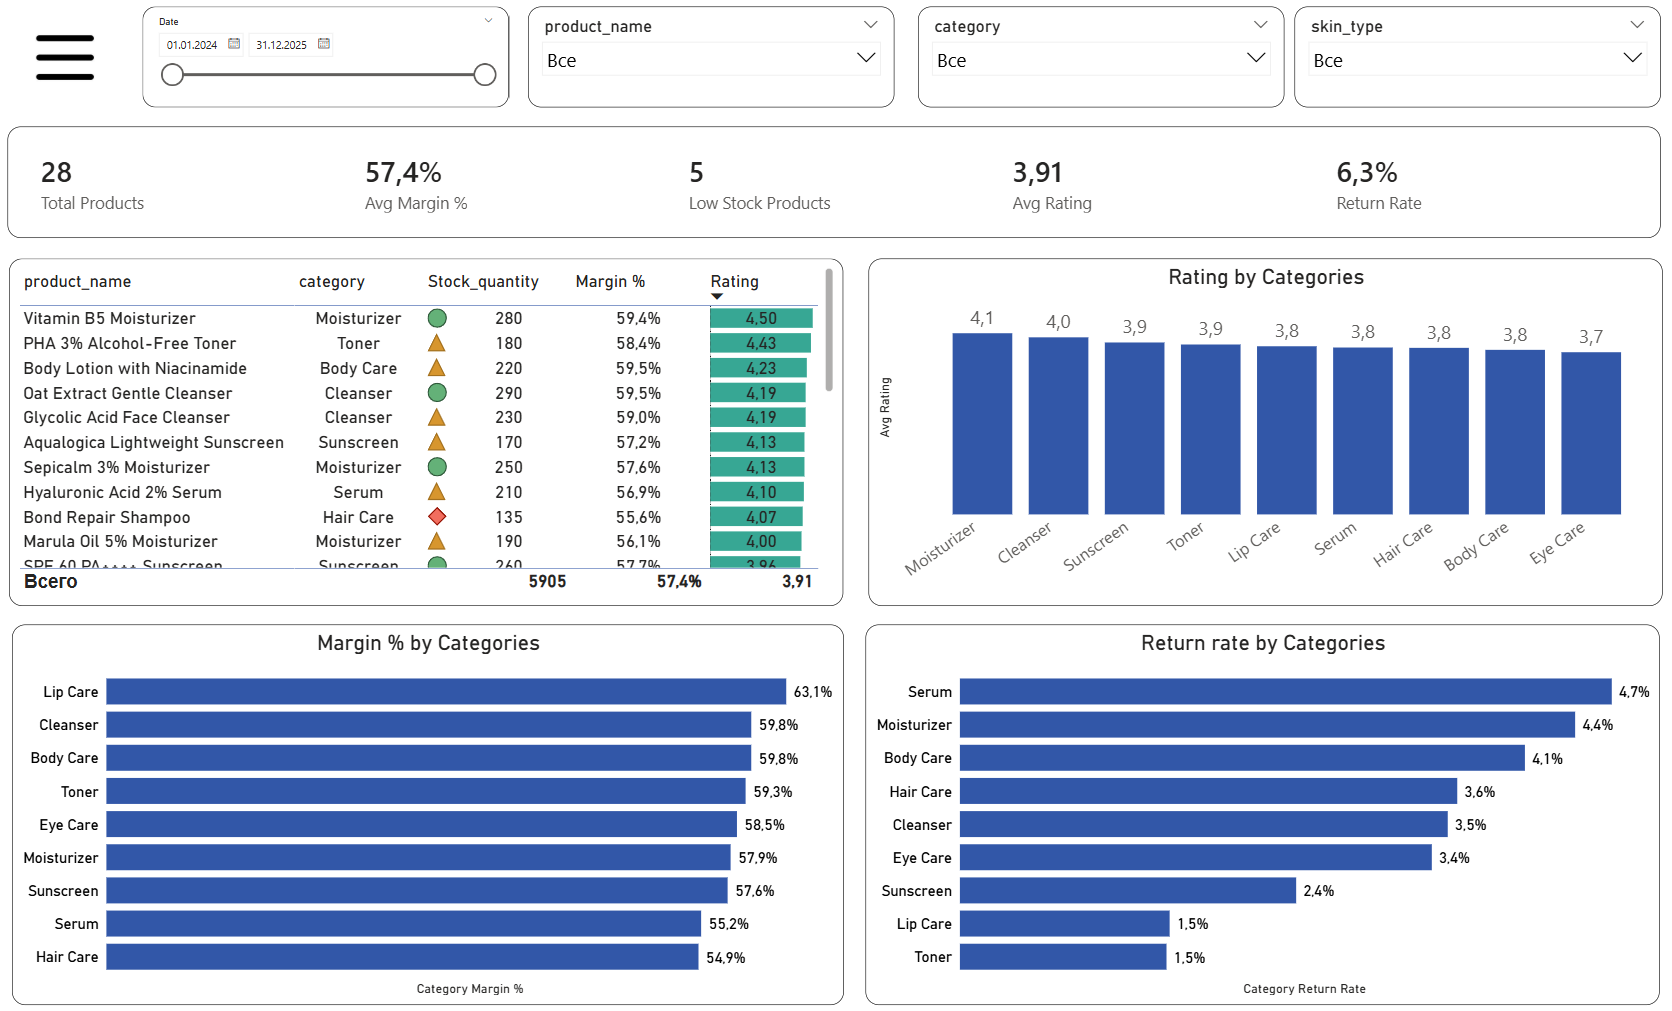

What the dashboard file says about the page in this screenshot:
{"tool":"powerbi","page":{"name":"Products","canvas":[1920,1440],"ordinal":2},"visuals":[{"type":"cardVisual","fields":{"Data":["Products.Total Products","Products.Avg Margin %","Products.Low Stock Products","Products.Avg Rating","Products.Return Rate"]},"box":[26,158,1868,126],"z":0},{"type":"tableEx","title":"Revenue by months","fields":{"Values":["Products.product_name","Products.category","Sum(Products.stock_qty)","Products.Avg Margin %","Products.Avg Rating"]},"box":[27.5,307.5,942.5,392.5],"z":1000},{"type":"columnChart","title":"Rating by Categories","fields":{"Category":["Products.category"],"Y":["Products.Avg Rating"]},"box":[997.5,307.5,897.5,392.5],"z":2000},{"type":"barChart","title":"Margin % by Categories","fields":{"Category":["Products.category"],"Y":["Products.Category Margin %"]},"box":[30,720,940,430],"z":3000},{"type":"barChart","title":"Return rate by Categories","fields":{"Category":["Products.category"],"Y":["Products.Category Return Rate"]},"box":[995,720,897.5,430],"z":4000},{"type":"slicer","fields":{"Values":["Products.product_name"]},"box":[614,22,414,114],"z":5000},{"type":"slicer","fields":{"Values":["Products.category"]},"box":[1054,22,414,114],"z":6000},{"type":"slicer","fields":{"Values":["Products.skin_type"]},"box":[1480,22,414,114],"z":7000},{"type":"slicer","fields":{"Values":["Calendar.Date"]},"box":[178,22,414,114],"z":8000},{"type":"image","box":[26,34,132,90],"z":9000}]}

Visuals, with their boxes on the page's 1920x1440 design canvas (x1, y1, x2, y2). These are canvas units, not pixel positions in the 1672x1011 screenshot, which may show the page scaled, cropped or inside an application window:
cardVisual - Products.Total Products x Products.Avg Margin %: {"left": 26, "top": 158, "right": 1894, "bottom": 284}
"Revenue by months" tableEx: {"left": 28, "top": 308, "right": 970, "bottom": 700}
"Rating by Categories" columnChart: {"left": 998, "top": 308, "right": 1895, "bottom": 700}
"Margin % by Categories" barChart: {"left": 30, "top": 720, "right": 970, "bottom": 1150}
"Return rate by Categories" barChart: {"left": 995, "top": 720, "right": 1892, "bottom": 1150}
slicer - Products.product_name: {"left": 614, "top": 22, "right": 1028, "bottom": 136}
slicer - Products.category: {"left": 1054, "top": 22, "right": 1468, "bottom": 136}
slicer - Products.skin_type: {"left": 1480, "top": 22, "right": 1894, "bottom": 136}
slicer - Calendar.Date: {"left": 178, "top": 22, "right": 592, "bottom": 136}
image: {"left": 26, "top": 34, "right": 158, "bottom": 124}
